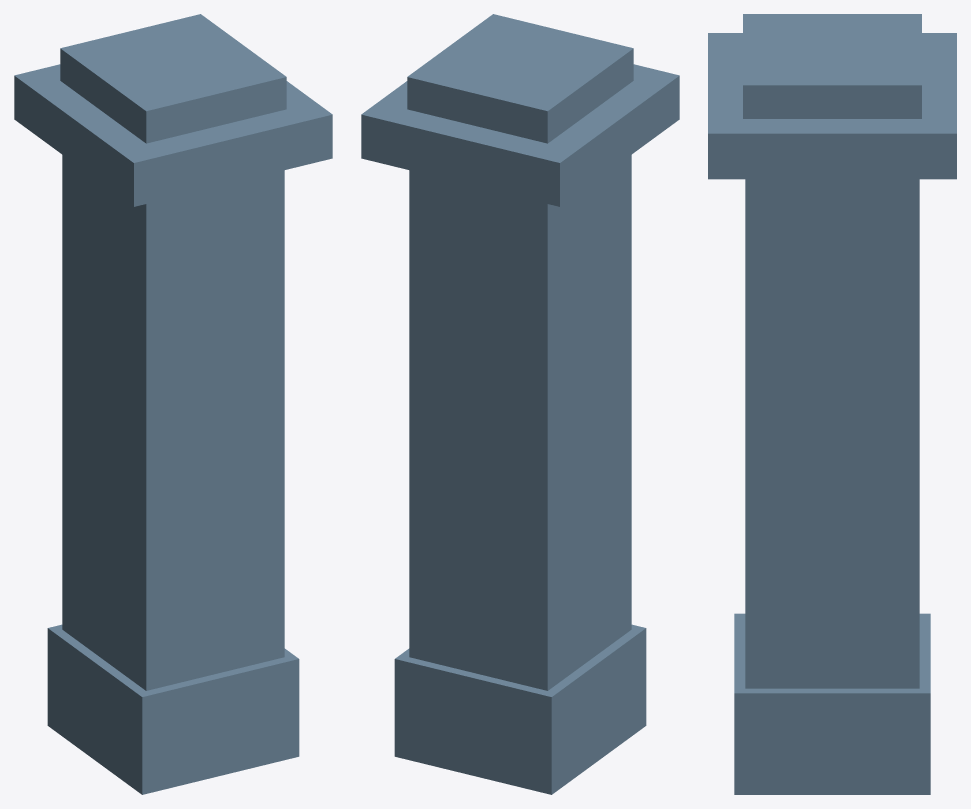
The model's file is Wall_Collumn.fbx.
3 views of the same model, side by side, from view 1: azimuth 30°, elevation 25°; view 2: azimuth 150°, elevation 25°; view 3: azimuth 270°, elevation 25° (orthographic). The views are drawn at different scales.
Parts seen in each view (by area): view 1: Wall_Collumn; view 2: Wall_Collumn; view 3: Wall_Collumn.
Part boxes in pixels (x1=…): Wall_Collumn: x1=14, y1=14, x2=332, y2=794; Wall_Collumn: x1=361, y1=14, x2=679, y2=794; Wall_Collumn: x1=708, y1=14, x2=956, y2=794.
Size of the model in its own units: 115 by 373 by 119.
